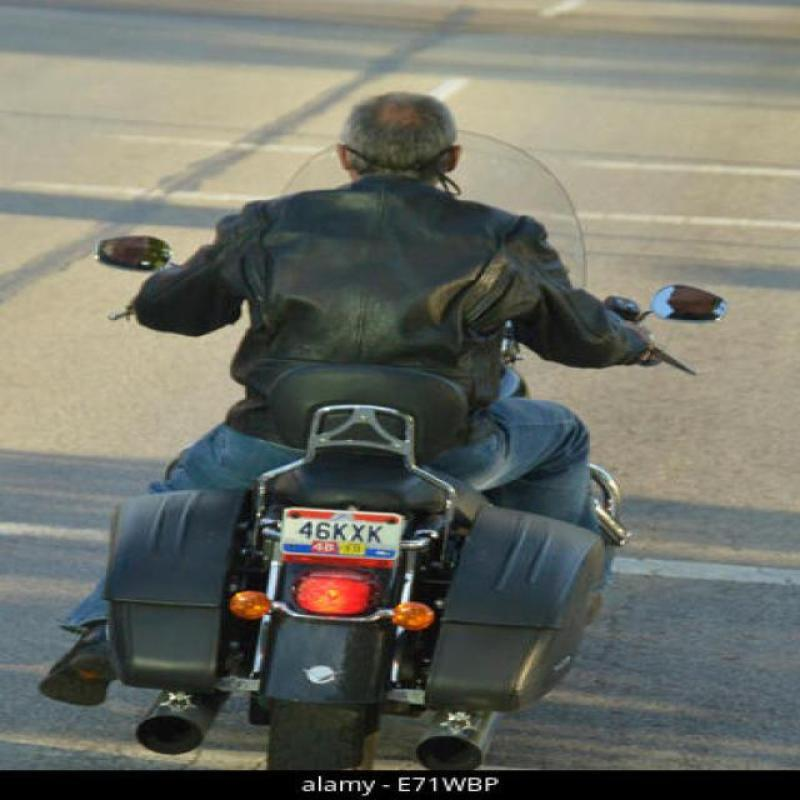nohelmet: (318, 92, 480, 212)
